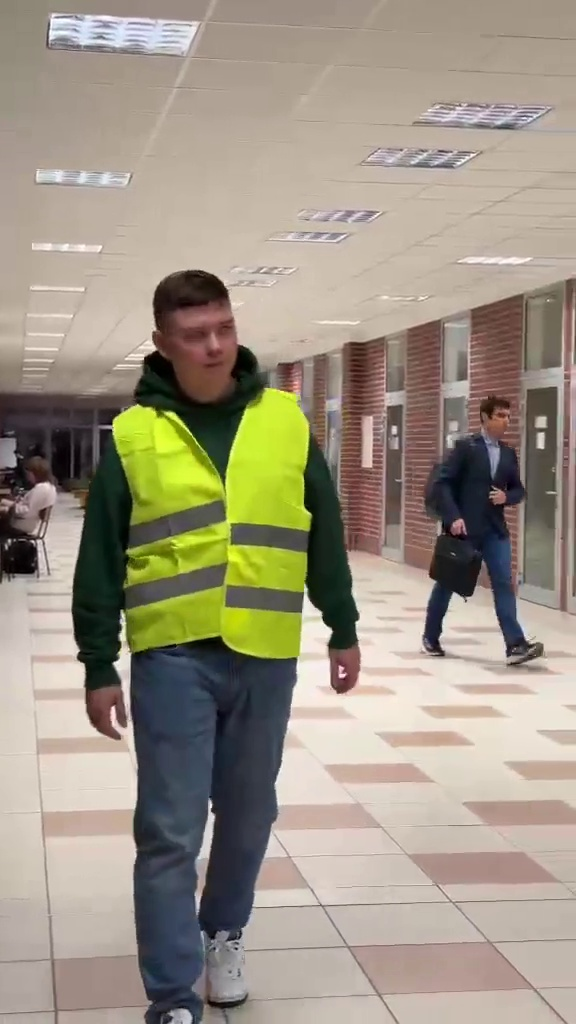no vest: (419, 396, 545, 676)
vest: (69, 267, 394, 1005)
